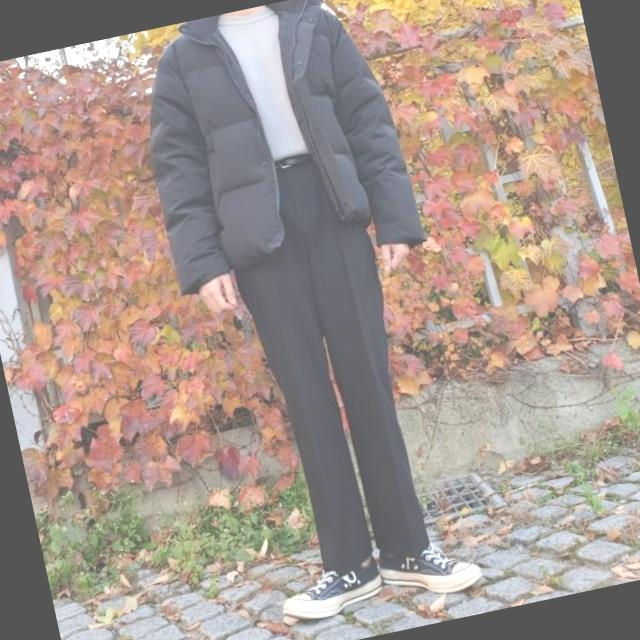padding: (119, 0, 427, 302)
slacks: (217, 138, 442, 584)
